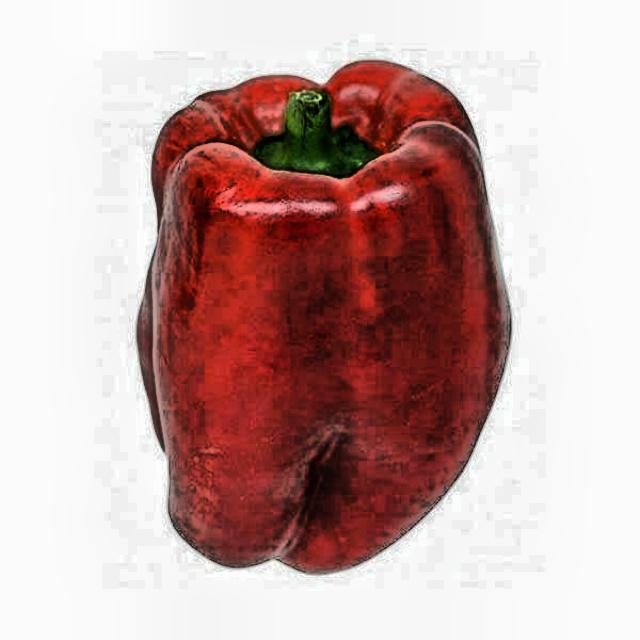capsicum: (128, 30, 519, 596)
